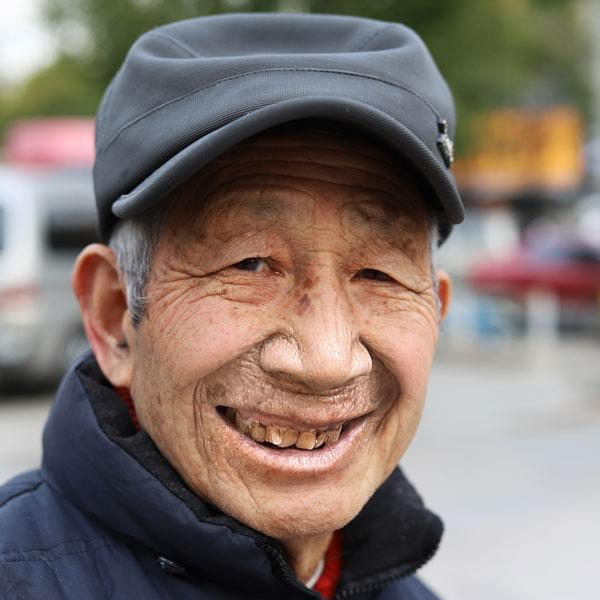Eyes: (207, 236, 294, 294), (343, 244, 421, 298)
